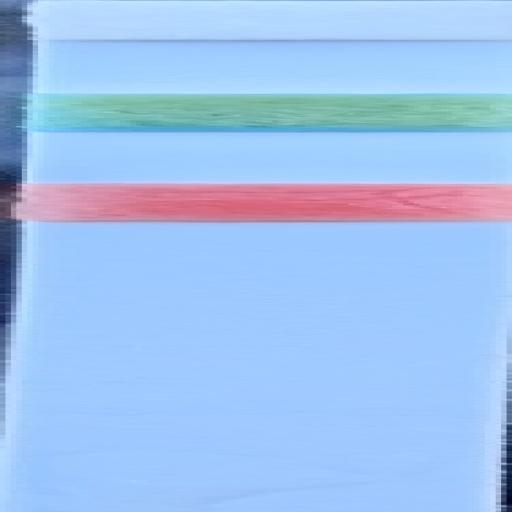pads: (0, 0, 512, 47), (0, 180, 512, 224), (0, 92, 512, 135)
